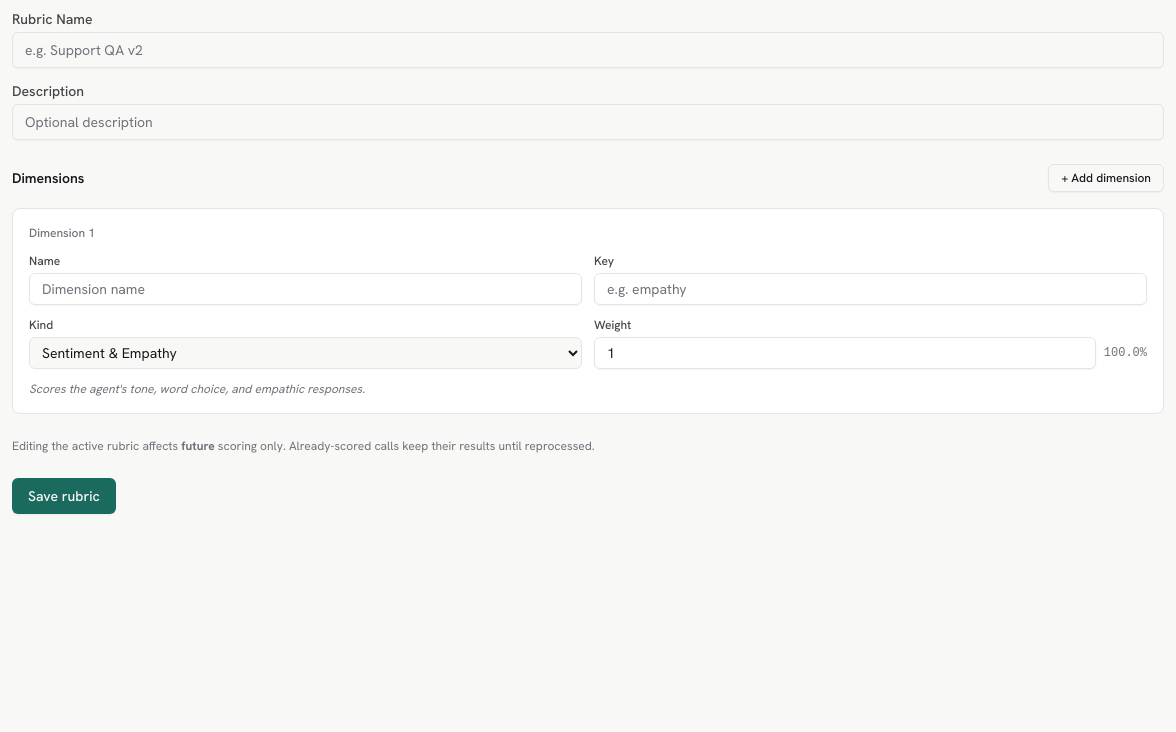
Scenario: RubricBuilder › validation blocks submit when compliance has no phrases
Note: Fill name
Type "Test" into the field labelled "Rubric Name" at (588, 50), box x1=12 y1=32 x2=1164 y2=68
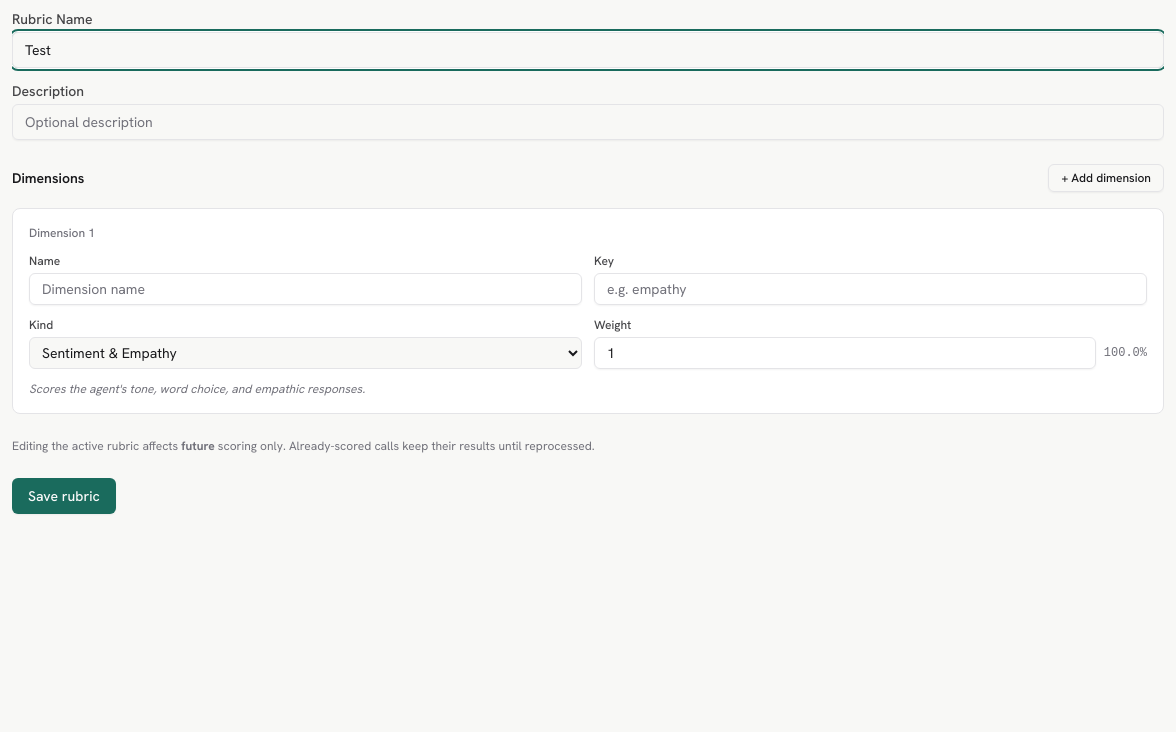
Note: Fill dimension name and key
Type "Compliance" into the field with test id "dim-name" at (306, 289), box x1=29 y1=273 x2=582 y2=305
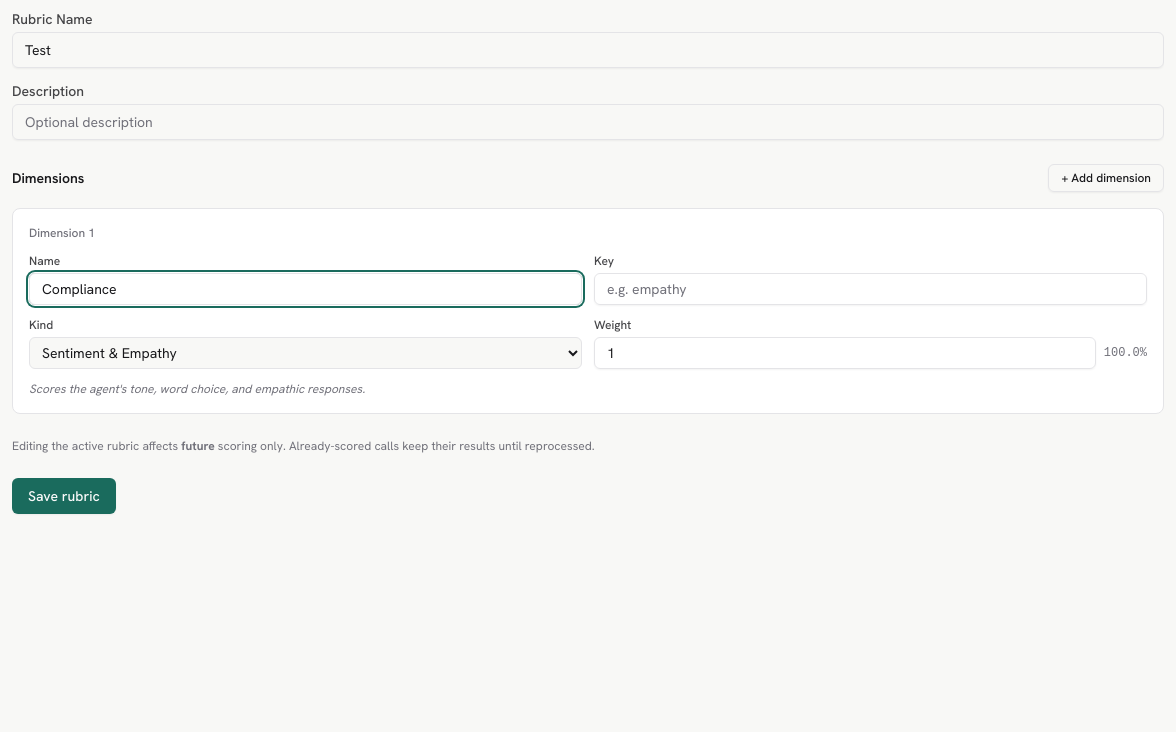
Type "comp" into the field with placeholder "e.g. empathy" at (870, 289), box x1=594 y1=273 x2=1147 y2=305
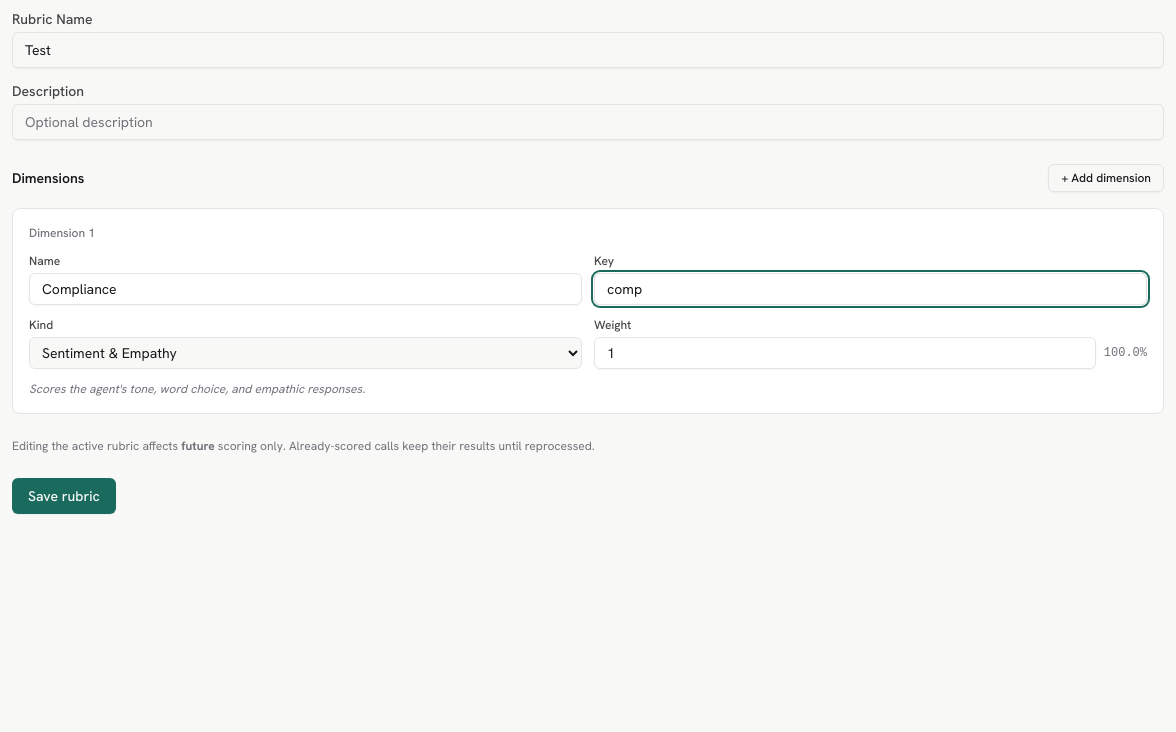
Note: Switch to compliance — no phrases added
Select "Compliance" in the dropdown with test id "dim-kind" at (306, 353), box x1=29 y1=337 x2=582 y2=369
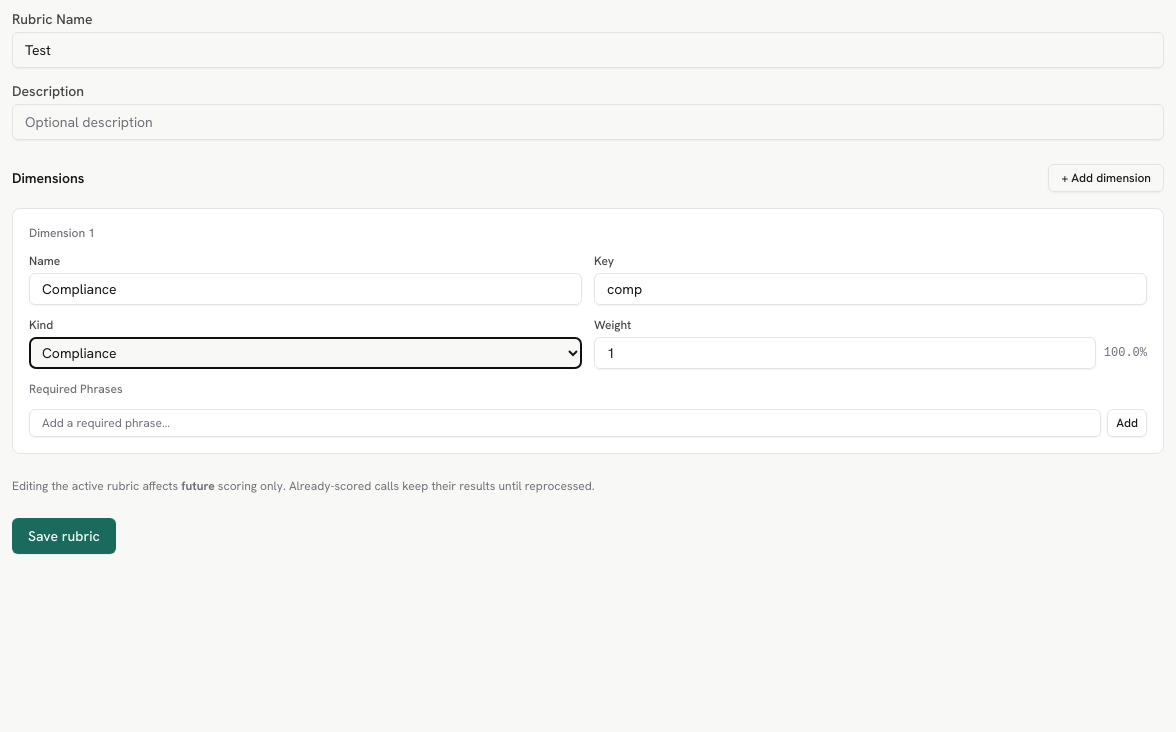
Note: Try to submit
Click the button with test id "rubric-submit" at (64, 536), box x1=12 y1=518 x2=116 y2=554
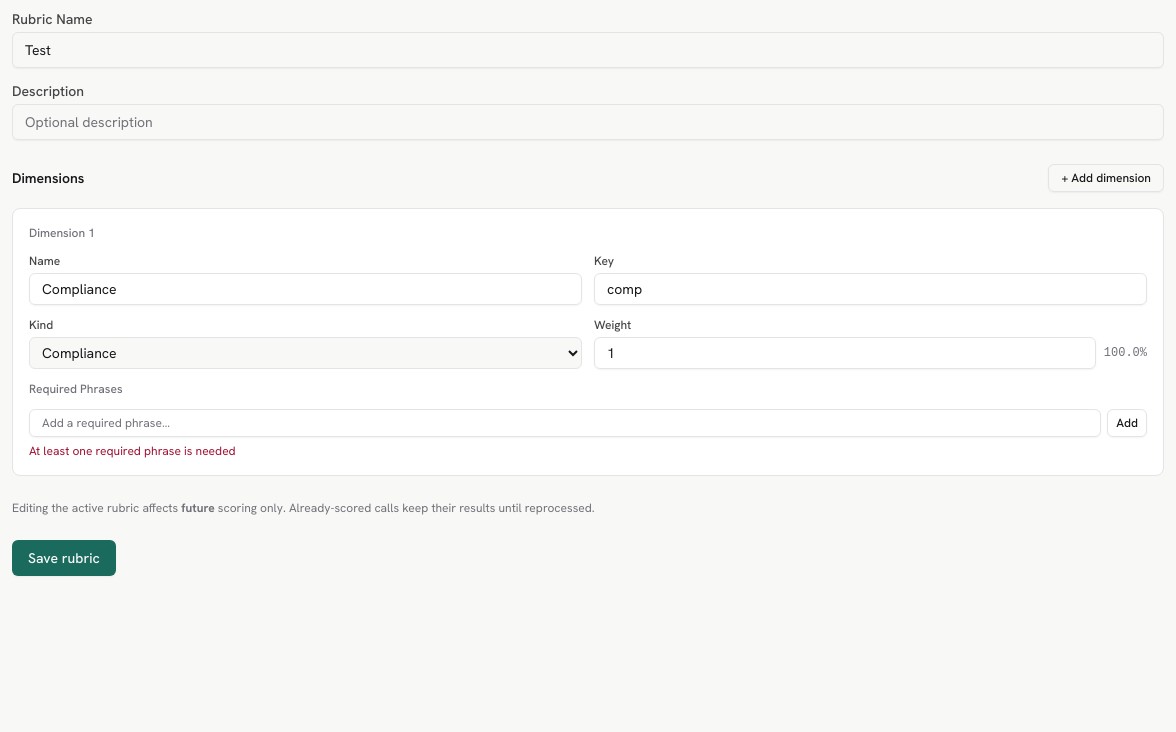
expect the text "At least one required phrase is needed" is shown: met, box x1=29 y1=443 x2=236 y2=459
